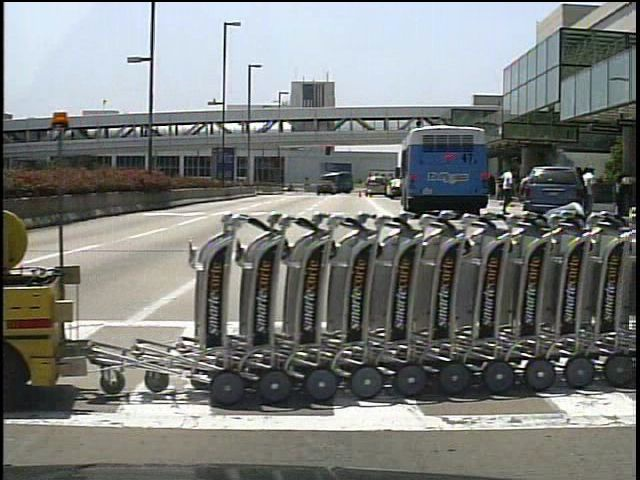person: (580, 165, 601, 214), (497, 166, 516, 215), (518, 168, 537, 215)
